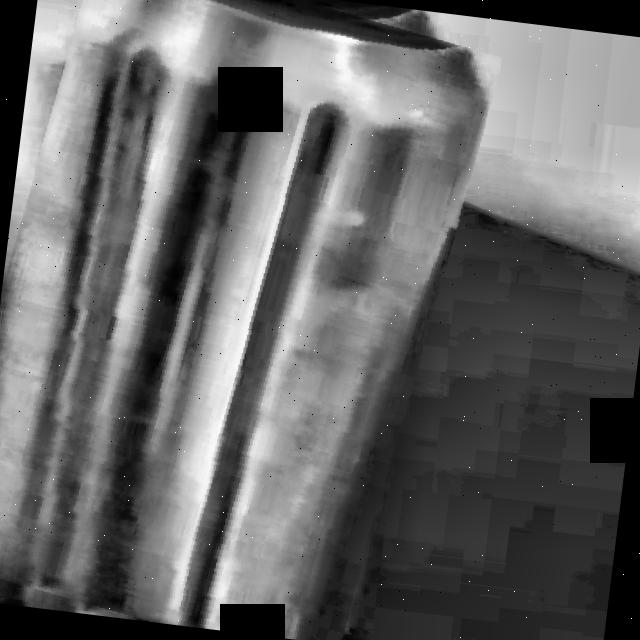bottle: (0, 0, 488, 640)
